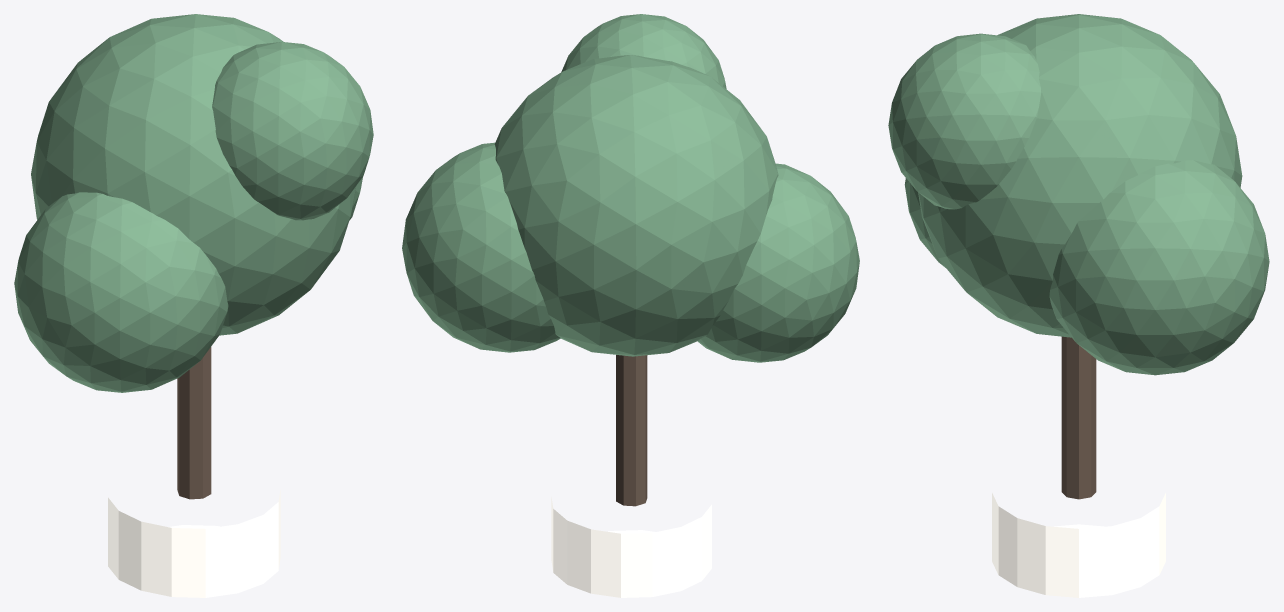
File: plazatree-palace.glb
The picture shows the model from 3 angles, left to right: view 1: azimuth 30°, elevation 25°; view 2: azimuth 150°, elevation 25°; view 3: azimuth 270°, elevation 25°; orthographic projection. The views are drawn at different scales.
Parts seen in each view (by area): view 1: leaves, pot, trunk; view 2: leaves, pot, trunk; view 3: leaves, pot, trunk.
Boxes of the visible parts, <box> form: leaves: <box>14,14,373,392</box>; pot: <box>108,489,280,597</box>; trunk: <box>177,347,211,499</box>; leaves: <box>402,14,859,362</box>; pot: <box>551,497,711,597</box>; trunk: <box>616,355,647,506</box>; leaves: <box>888,14,1269,375</box>; pot: <box>992,493,1165,597</box>; trunk: <box>1061,336,1096,499</box>.
Bounding box in the file's own units: 4.15 × 5.45 × 3.5.
